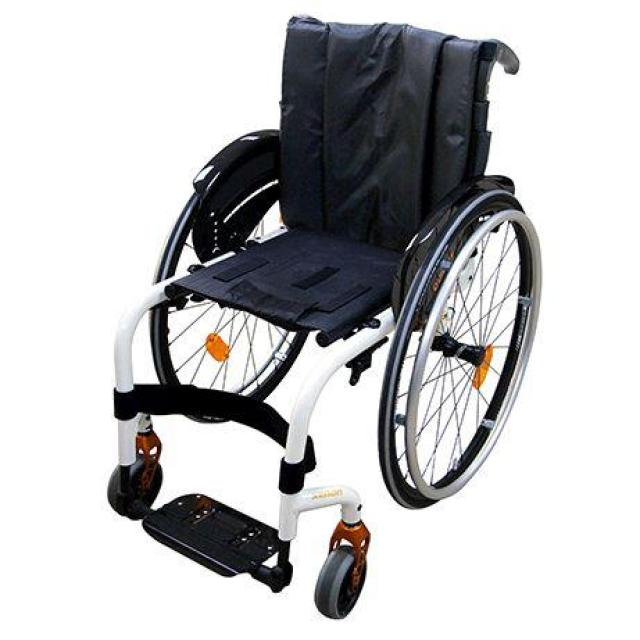wheelchairs: (96, 8, 590, 622)
